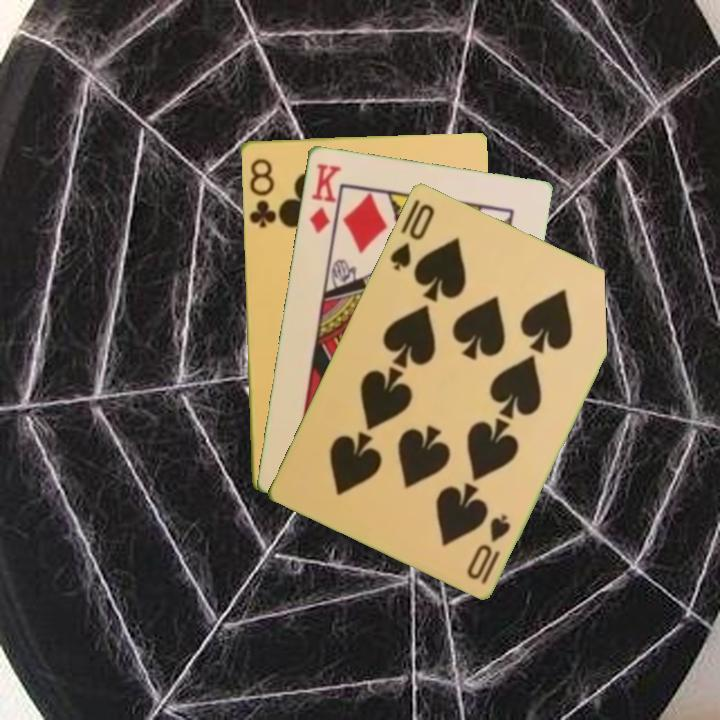10s: (463, 510, 514, 587), (385, 199, 437, 273)
8c: (245, 154, 278, 230)
Kd: (305, 159, 344, 236)
